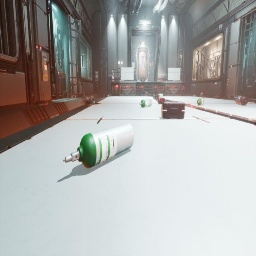0: (63, 123, 134, 169), (139, 99, 152, 108), (197, 98, 204, 105), (158, 94, 163, 98)
EmergencyPhone ,: (226, 77, 229, 85), (96, 82, 98, 87), (152, 61, 153, 67), (152, 63, 153, 64), (97, 84, 98, 85)
FireAlarm ,: (150, 63, 152, 67), (76, 76, 77, 82)
FireExtinguisher ]: (155, 98, 165, 104), (186, 104, 196, 109), (158, 100, 158, 101)
FirstAidBox ,: (161, 101, 185, 119), (153, 92, 158, 100)
NitrogenTank ,: (235, 95, 248, 106), (200, 92, 204, 98), (145, 92, 149, 96), (141, 79, 145, 82)
SafetySwitchPanel ,: (39, 52, 49, 81), (132, 62, 135, 73), (95, 71, 98, 81), (81, 56, 82, 66)
